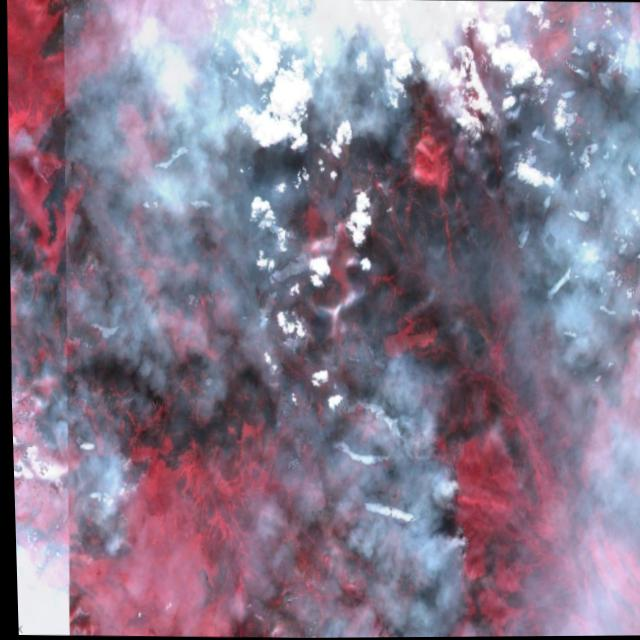fire: (438, 66, 513, 172), (427, 459, 473, 578)
